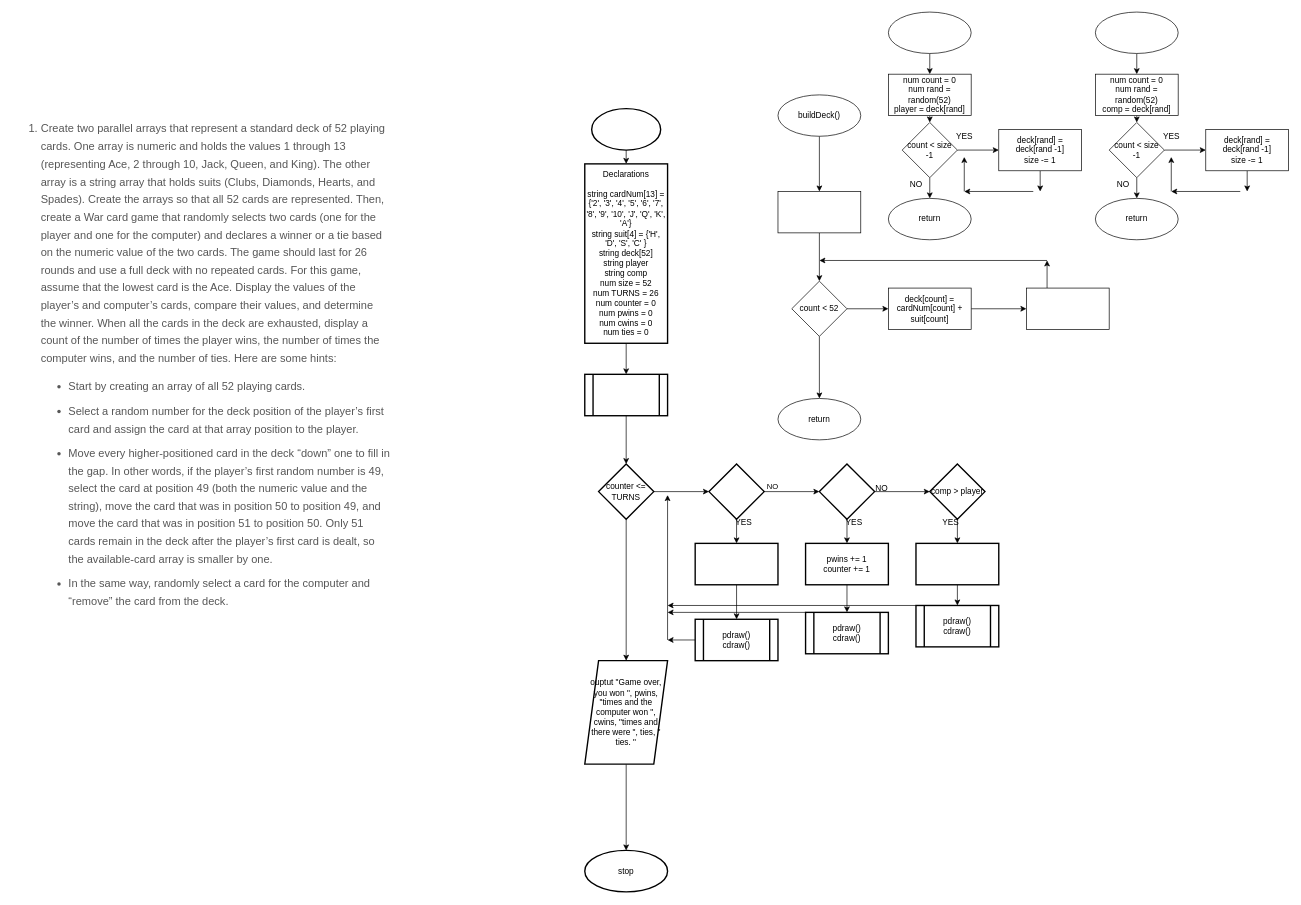
Some shapes in this 1301 by 905 pixel diagram are drawn without their labels. The centre of each missing label's shape, as x and y in pixels:
buildDeck() pdraw() cdraw(): the point at 626,394
cdraw(): the point at 1136,32
count += 1: the point at 1067,308
cwins += 1 counter += 1: the point at 957,563
num count = 0: the point at 819,212
pdraw(): the point at 929,32
player == comp: the point at 736,491
player > comp: the point at 846,491
start: the point at 626,129
ties += 1 counter += 1: the point at 736,563
